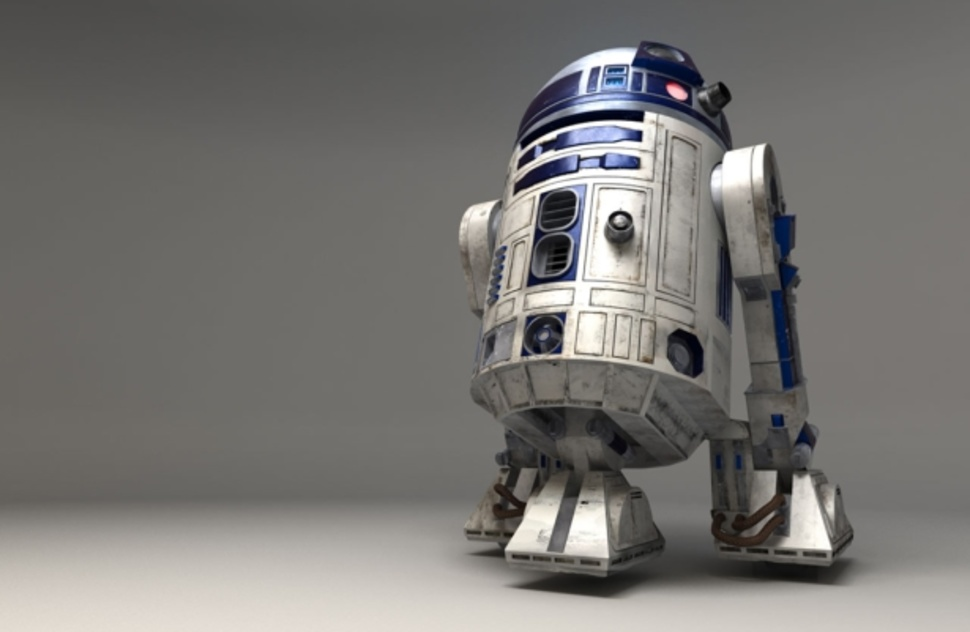r2d2: (455, 39, 855, 579)
